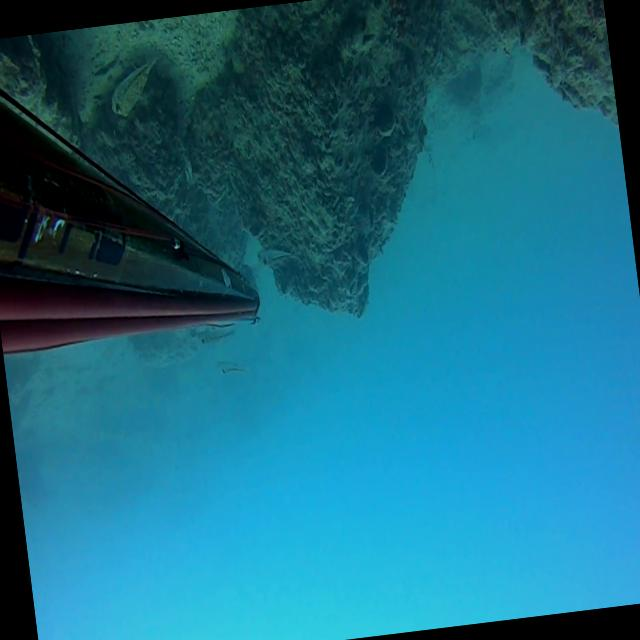Balon Baligi: (105, 52, 166, 116), (255, 243, 301, 266), (194, 320, 238, 344), (217, 358, 246, 374)
